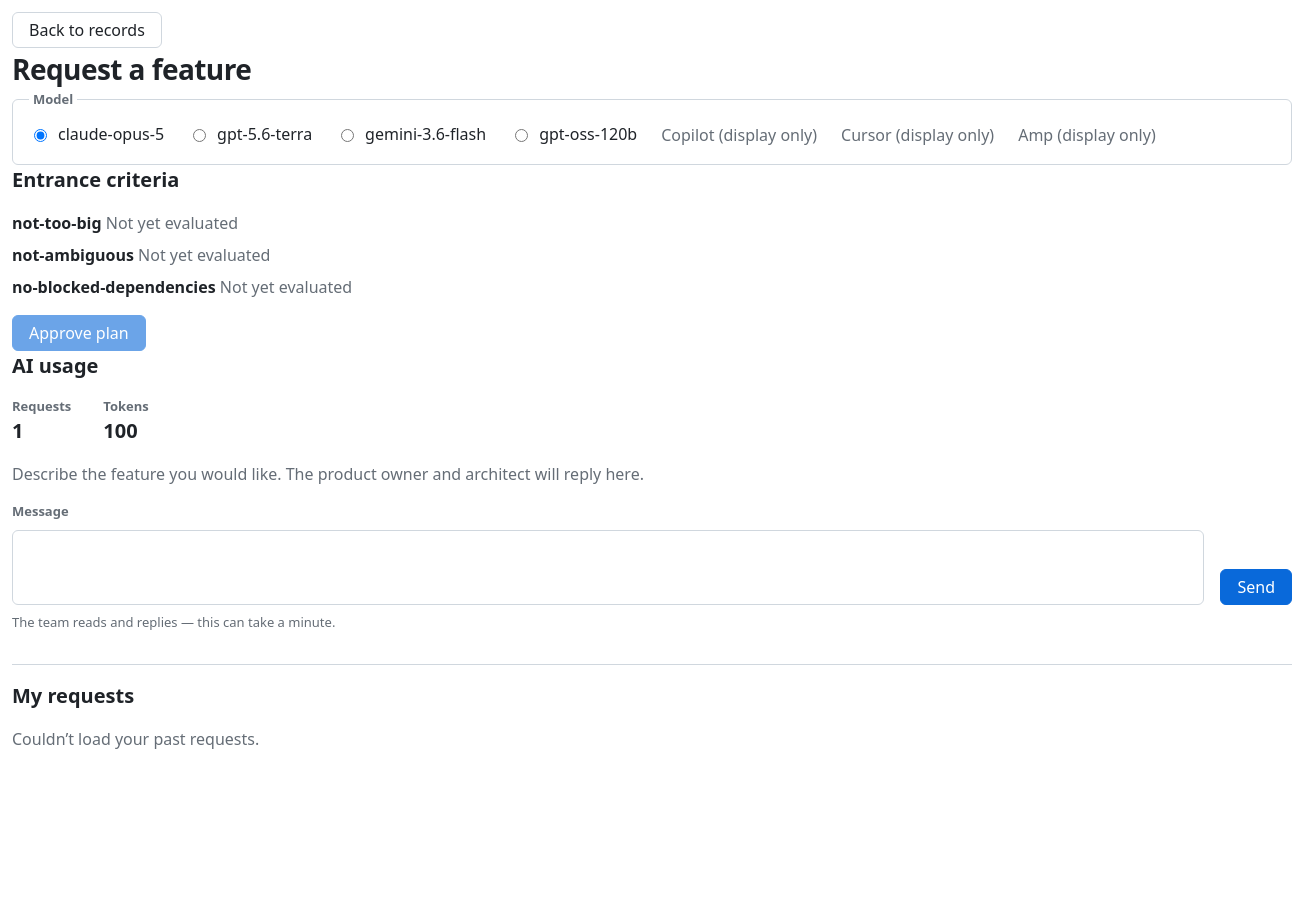
DAN-54 tester · criterion 4: quota exhaustion vs other errors › QUOTA_EXHAUSTED from startFeatureRequest produces the same panel
The width and height of the screenshot is (1304, 912).
Check: the text "Requests" is shown, box [12,396,71,416]
Type "Export the table as CSV" into the text box labelled "Message" at {"x": 608, "y": 567}, box [12,530,1204,604]
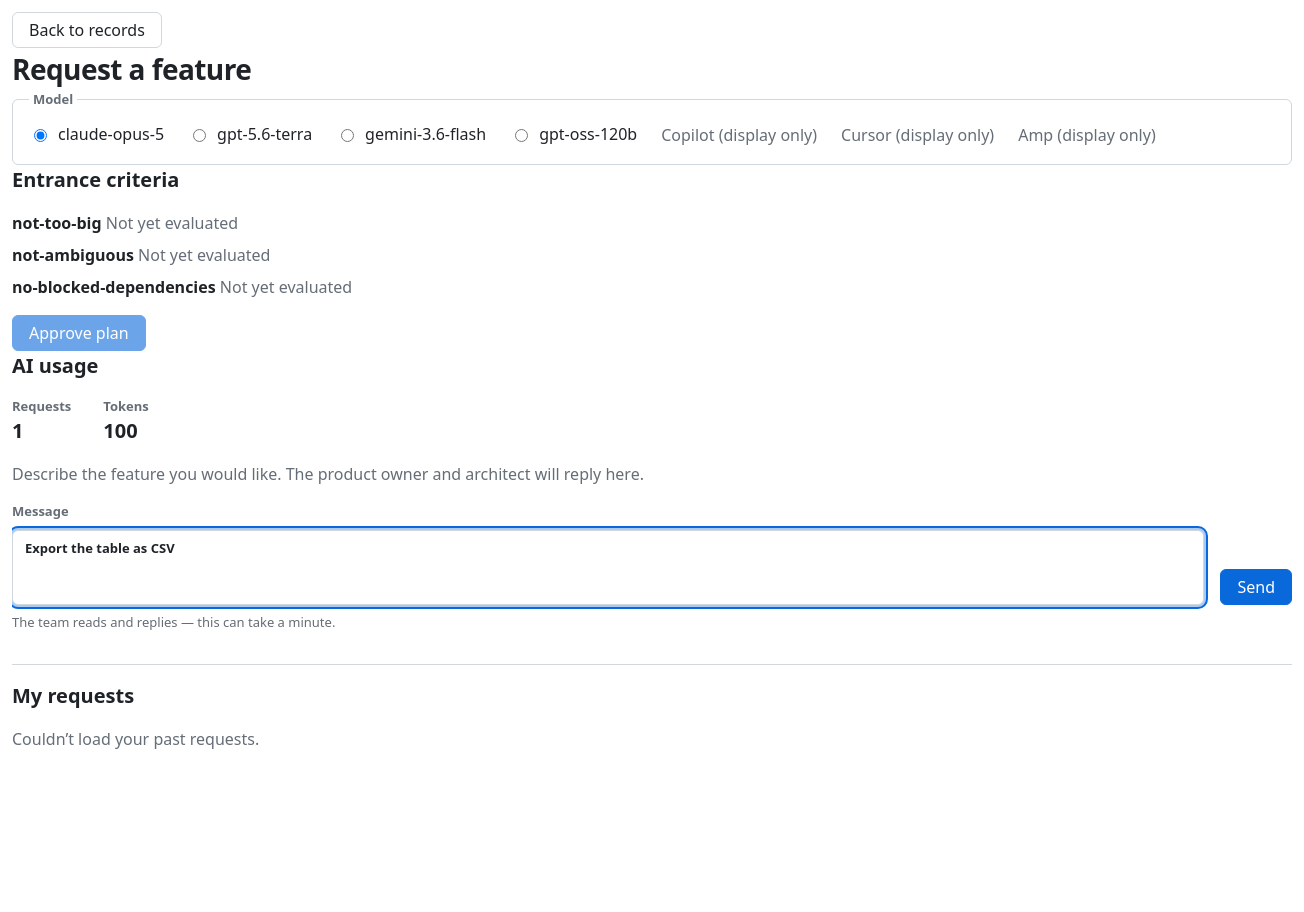
Click the button "Send" at {"x": 1256, "y": 586}, box [1220,568,1292,604]
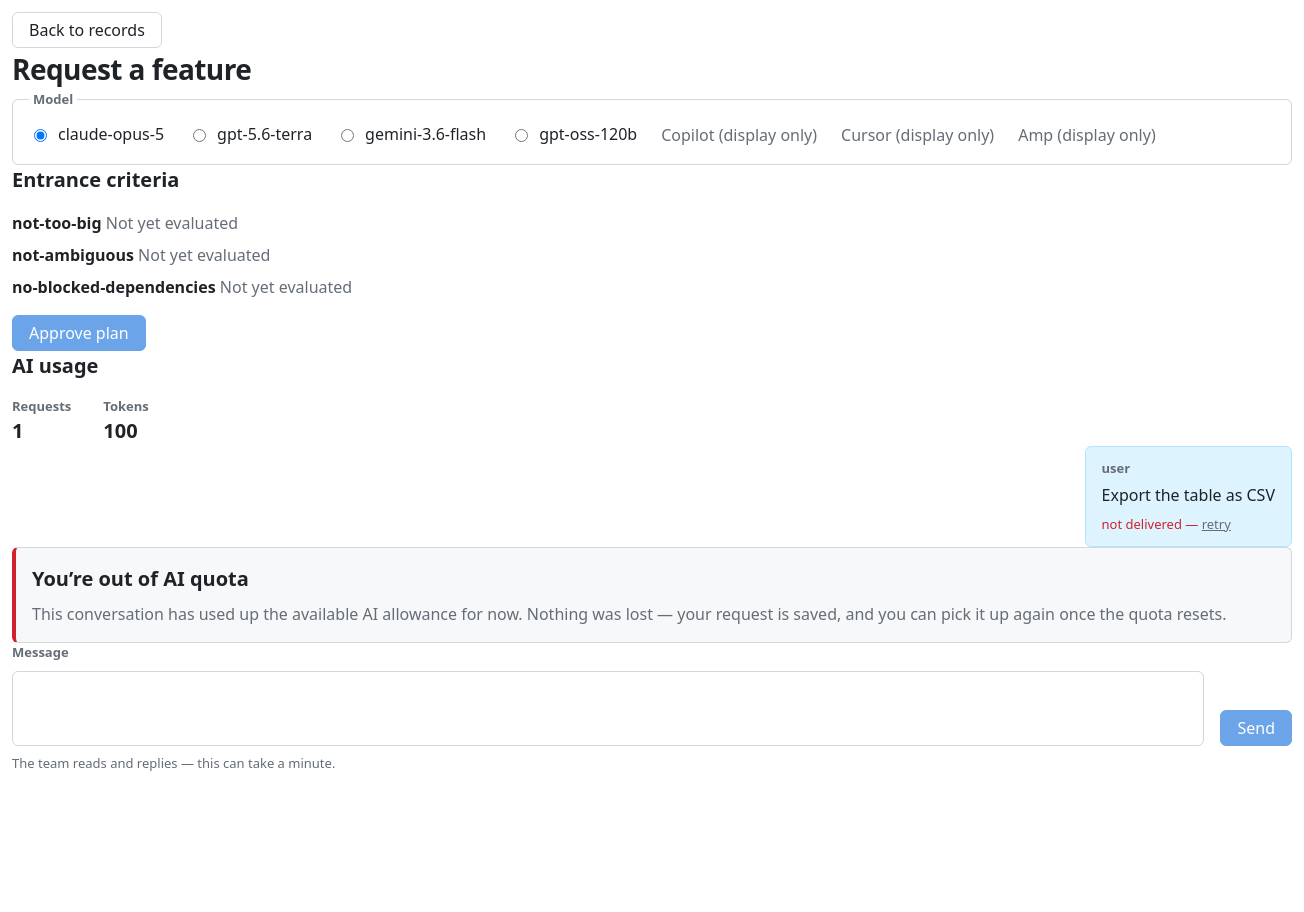
Check: the message shows "quota", box [32,565,249,592]
Check: the text box labelled "Message" is disabled, box [12,670,1204,746]
